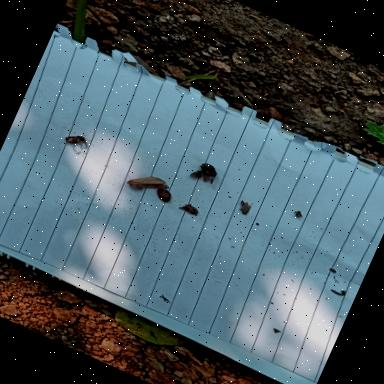abw: (127, 166, 172, 202)
pbw: (238, 201, 255, 217)
